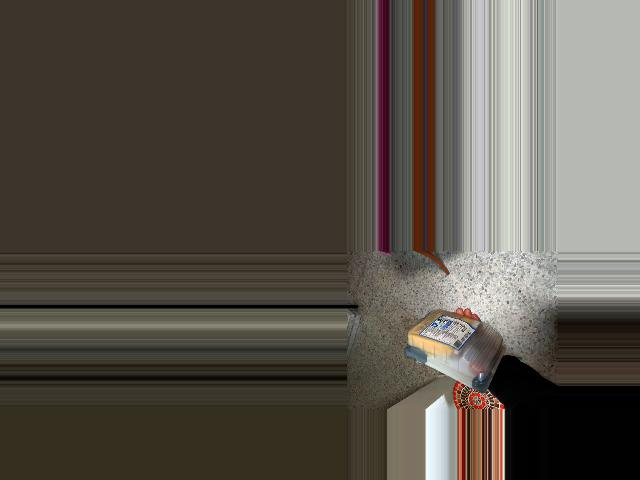cheese: (400, 307, 520, 391)
